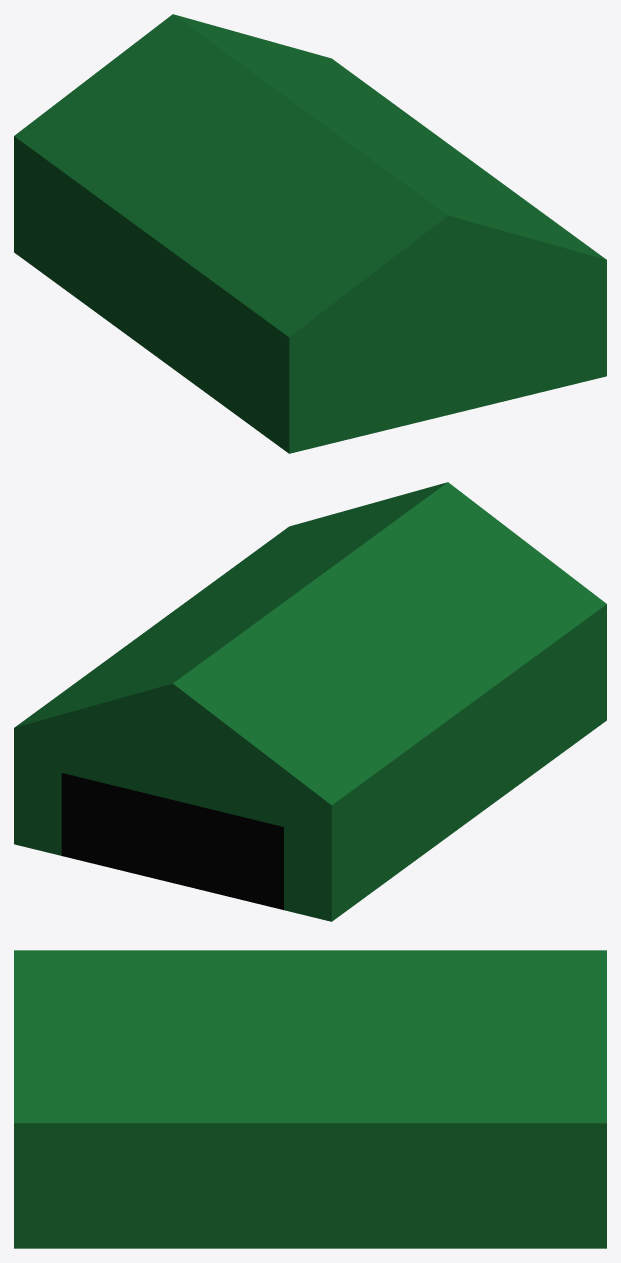
3 views of the same model, one above another, from view 1: azimuth 30°, elevation 25°; view 2: azimuth 150°, elevation 25°; view 3: azimuth 270°, elevation 25° (orthographic). The views are drawn at different scales.
Visible parts, largest first — view 1: obj1; view 2: obj1; view 3: obj1.
Boxes of the visible parts, x1=… form: obj1: x1=14, y1=14, x2=606, y2=453; obj1: x1=14, y1=482, x2=606, y2=921; obj1: x1=14, y1=950, x2=606, y2=1248.
Size of the model in its own units: 50 by 30 by 75.
1 material, 1 textured.
